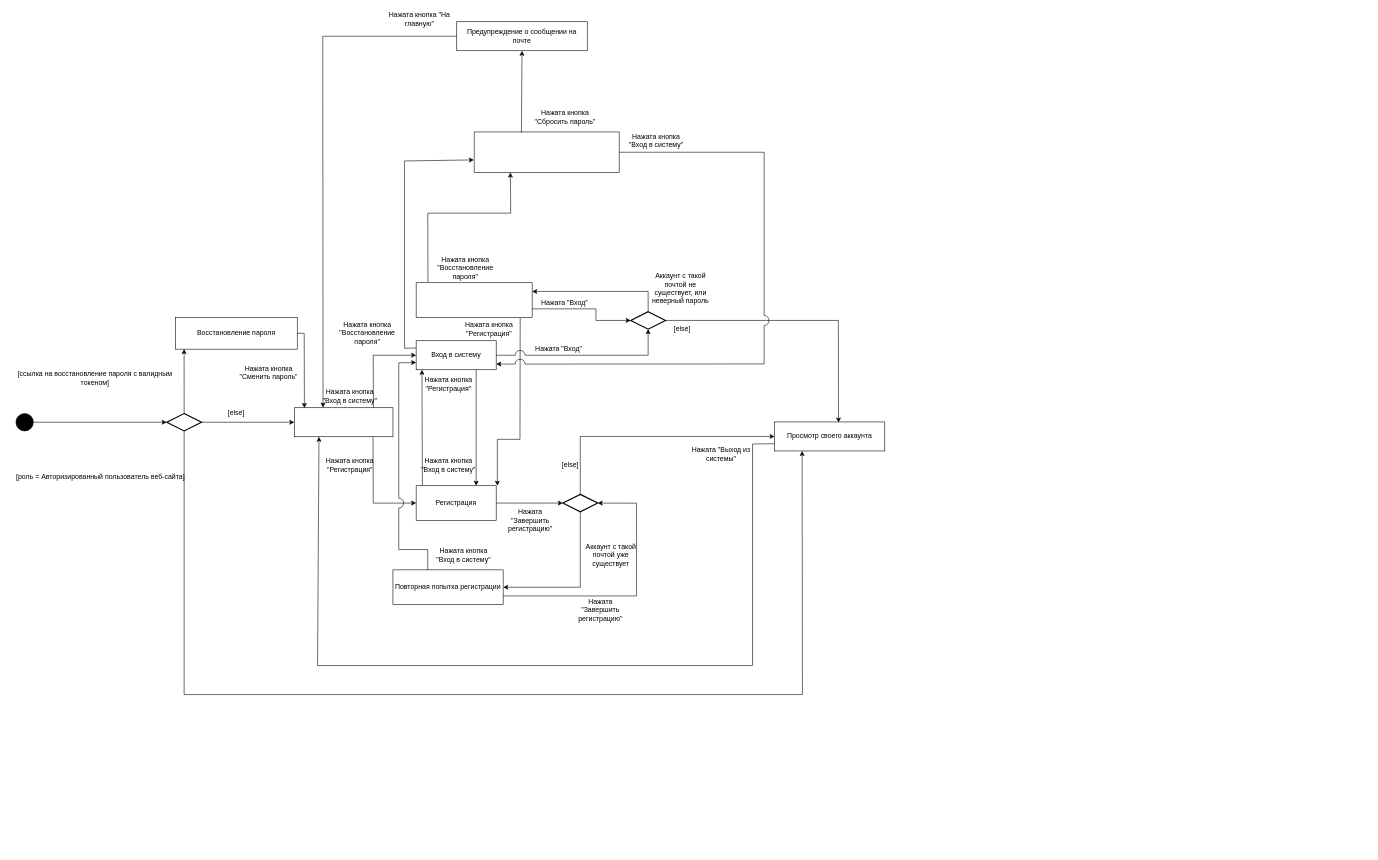
Image size: 1378x860. Some labels were removed from this diagram. The shapes that lost their labels are listed below. From the top down, each one's centre as x and y in pixels, then its label:
pixel 546 152: Отправка запроса на восстановление пароля
pixel 474 300: Вход в систему с неверными данными
pixel 343 422: Стартотвая страница
